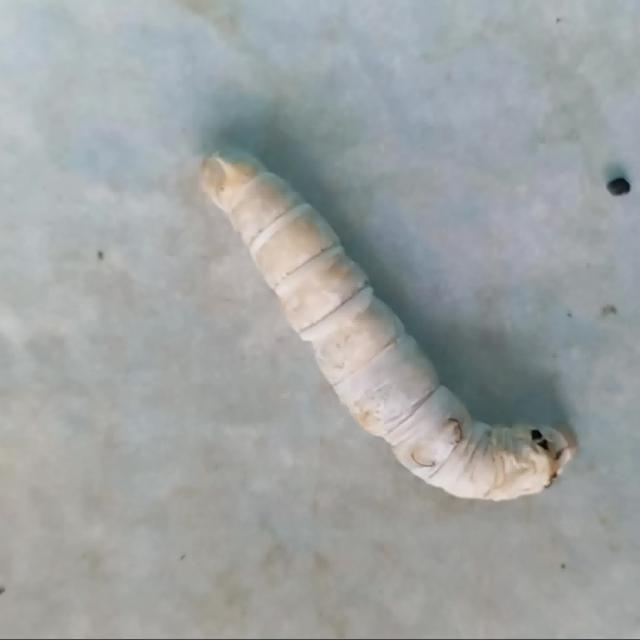Grasserie: (183, 107, 617, 548)
